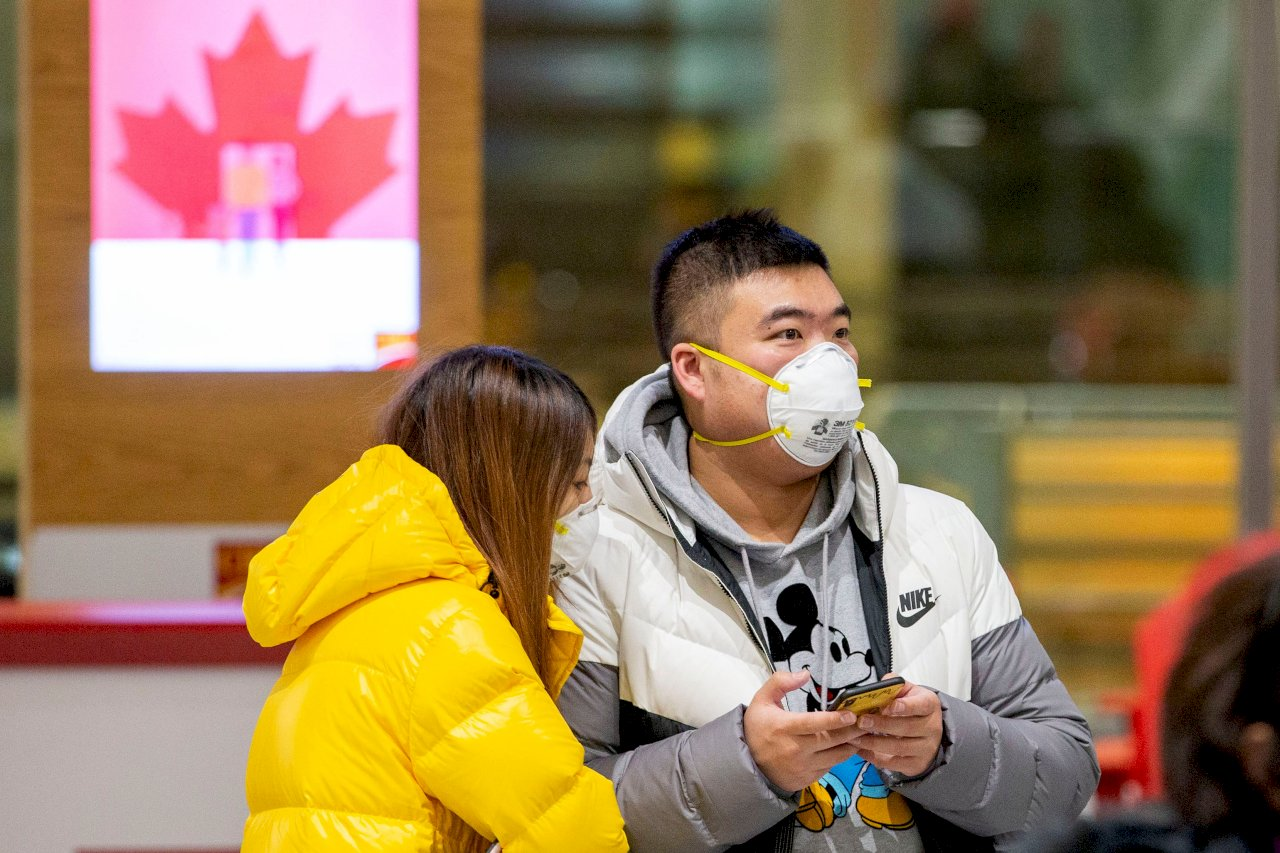Mask: (696, 273, 871, 483), (518, 422, 611, 590)
